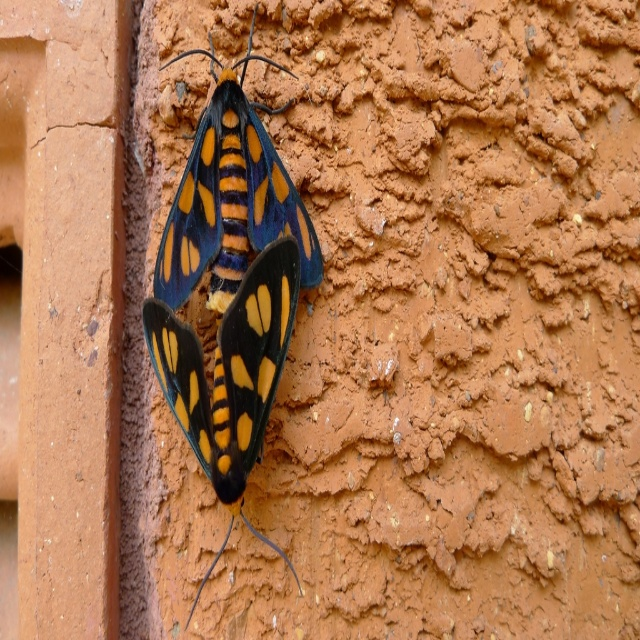Butterfly: (142, 233, 302, 631), (148, 6, 326, 314)
